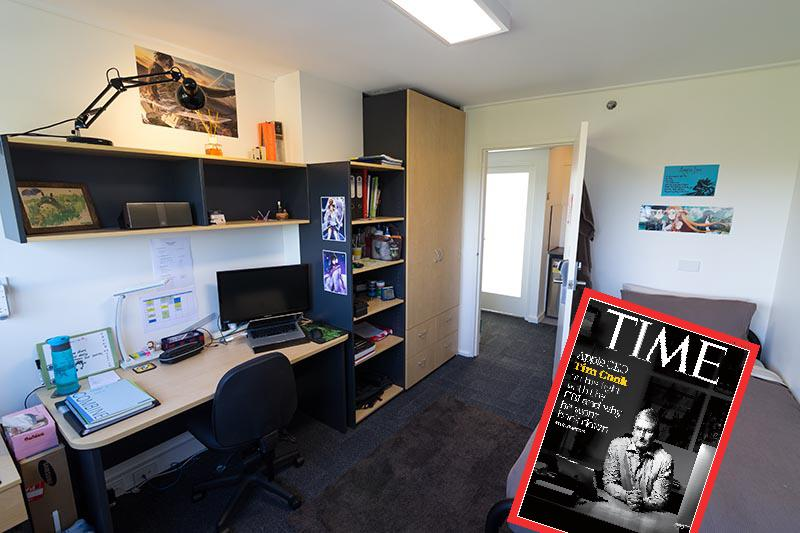times: (503, 284, 763, 533)
